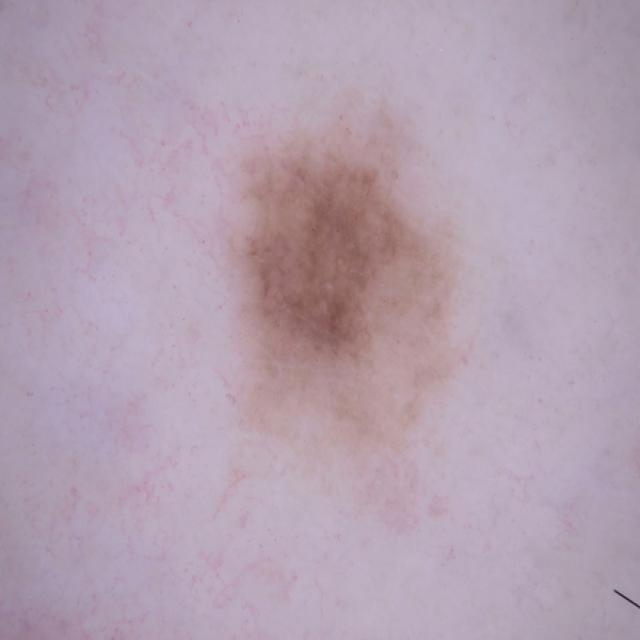Skin-Cancer Pigmented benign keratosis: (54, 39, 617, 639)
